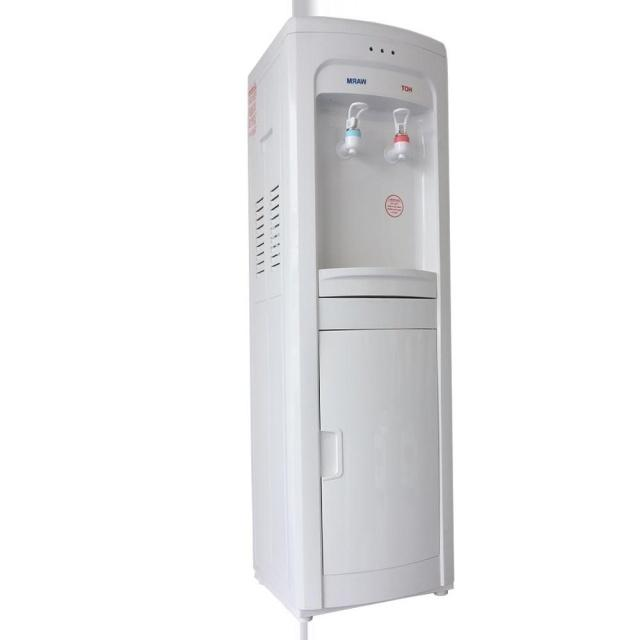Dispenser: (246, 15, 453, 621)
